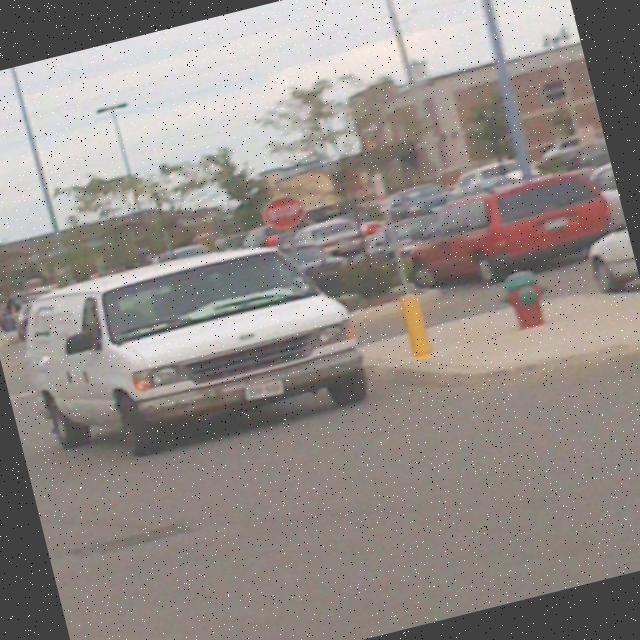fire_hydrant: (492, 264, 559, 336)
